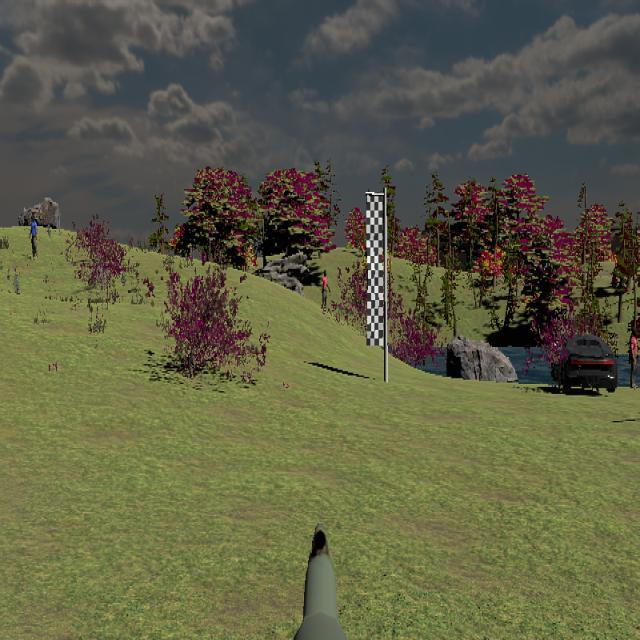Human: (631, 326, 640, 391), (320, 270, 331, 314)
car: (559, 333, 619, 394)
